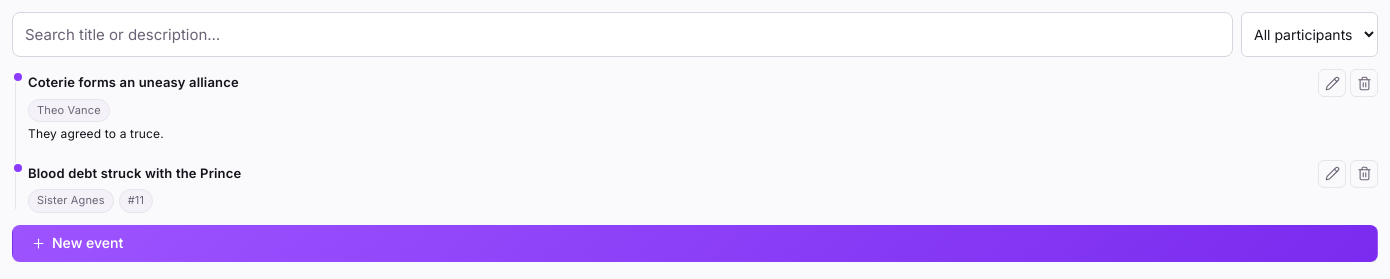
Test case: TimelineWindow › filters events by participant
The width and height of the screenshot is (1390, 279).
Select "Sister Agnes" in the dropdown named "Filter by participant" at (1310, 35), box [1241, 12, 1378, 57]
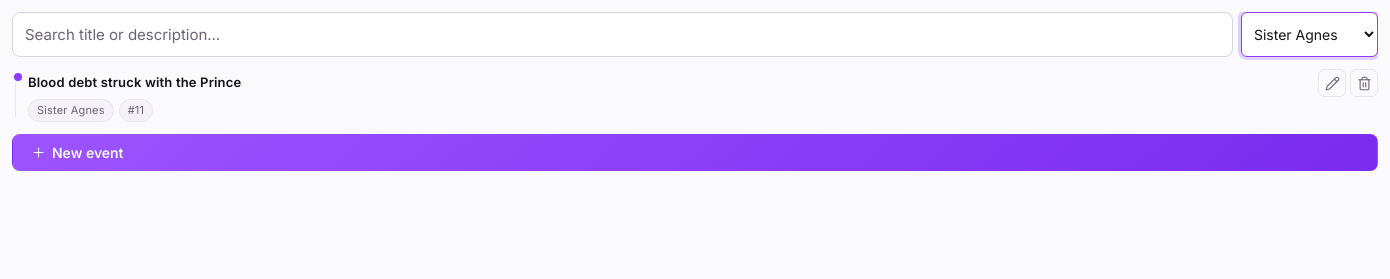
Check: the text "Blood debt struck with the Prince" is shown, box [28, 74, 241, 90]
Check: the text "Coterie forms an uneasy alliance" is gone
